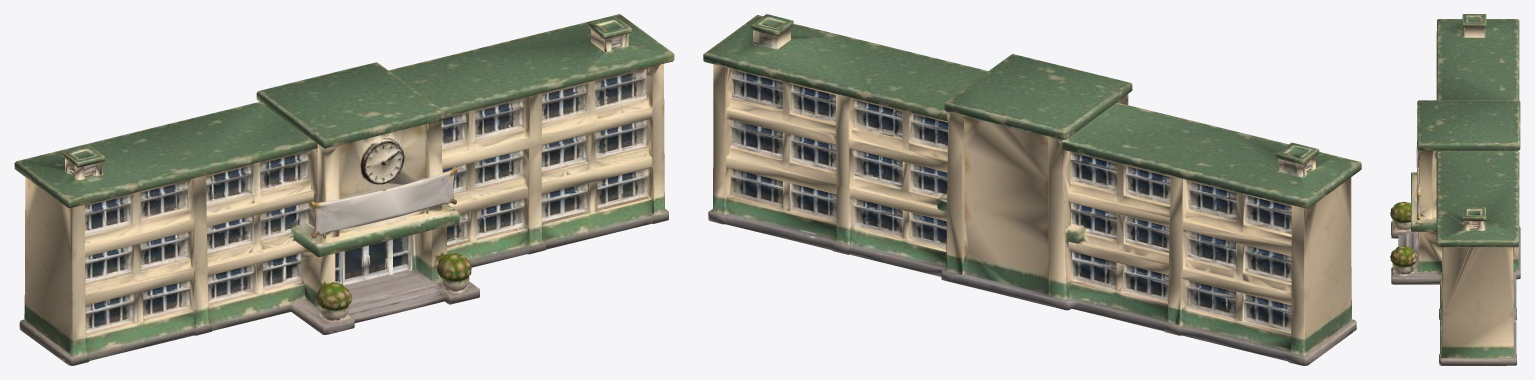
The model's file is bg_school.glb.
The picture shows the model from 3 angles, left to right: view 1: azimuth 30°, elevation 25°; view 2: azimuth 150°, elevation 25°; view 3: azimuth 270°, elevation 25°; orthographic projection. The views are drawn at different scales.
Parts seen in each view (by area): view 1: Low; view 2: Low; view 3: Low.
Part boxes in pixels (bbox=[...]): Low: bbox=[14, 14, 674, 365]; Low: bbox=[703, 14, 1361, 365]; Low: bbox=[1390, 14, 1520, 365].
Size of the model in its own units: 30.65 by 9 by 7.58.
Materials: 1 (1 with a texture image).
